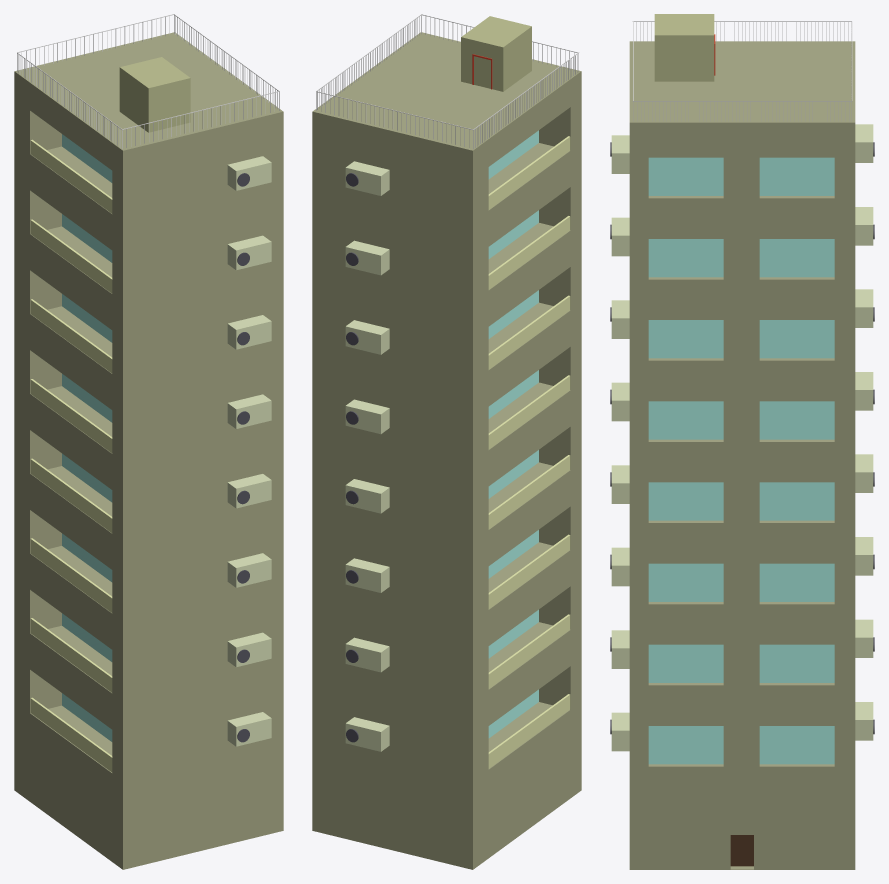
The model's file is predio2.fbx.
3 views of the same model, side by side, from view 1: azimuth 30°, elevation 25°; view 2: azimuth 150°, elevation 25°; view 3: azimuth 270°, elevation 25° (orthographic). The views are drawn at different scales.
Visible parts, largest first — view 1: Cube, Cube.017, Cylinder.001, Cube.001, Cube.007, Cube.008, Cube.005, Cube.004; view 2: Cube, Cube.017, Cylinder.002, Cube.001, Cube.008, Cube.007, Cube.004; view 3: Cube, Cylinder.001, Cylinder.002, Cube.001, Cube.008, Cube.007.
Part boxes in pixels (<box>): Cube: <box>14,32,283,869</box>; Cube.017: <box>30,139,112,772</box>; Cylinder.001: <box>227,156,271,746</box>; Cube.001: <box>119,57,190,132</box>; Cube.007: <box>18,55,120,147</box>; Cube.008: <box>175,16,277,109</box>; Cube.005: <box>122,92,279,148</box>; Cube.004: <box>71,15,174,58</box>; Cube: <box>312,32,581,869</box>; Cube.017: <box>488,136,570,768</box>; Cylinder.002: <box>345,161,389,751</box>; Cube.001: <box>461,16,531,91</box>; Cube.008: <box>317,15,421,109</box>; Cube.007: <box>475,54,577,147</box>; Cube.004: <box>316,92,419,135</box>; Cube: <box>629,41,855,869</box>; Cylinder.001: <box>610,135,629,751</box>; Cylinder.002: <box>855,124,874,740</box>; Cube.001: <box>654,14,714,81</box>; Cube.008: <box>637,102,849,121</box>; Cube.007: <box>636,22,848,41</box>.
Size of the model in its own units: 2640 by 12005 by 3627.
